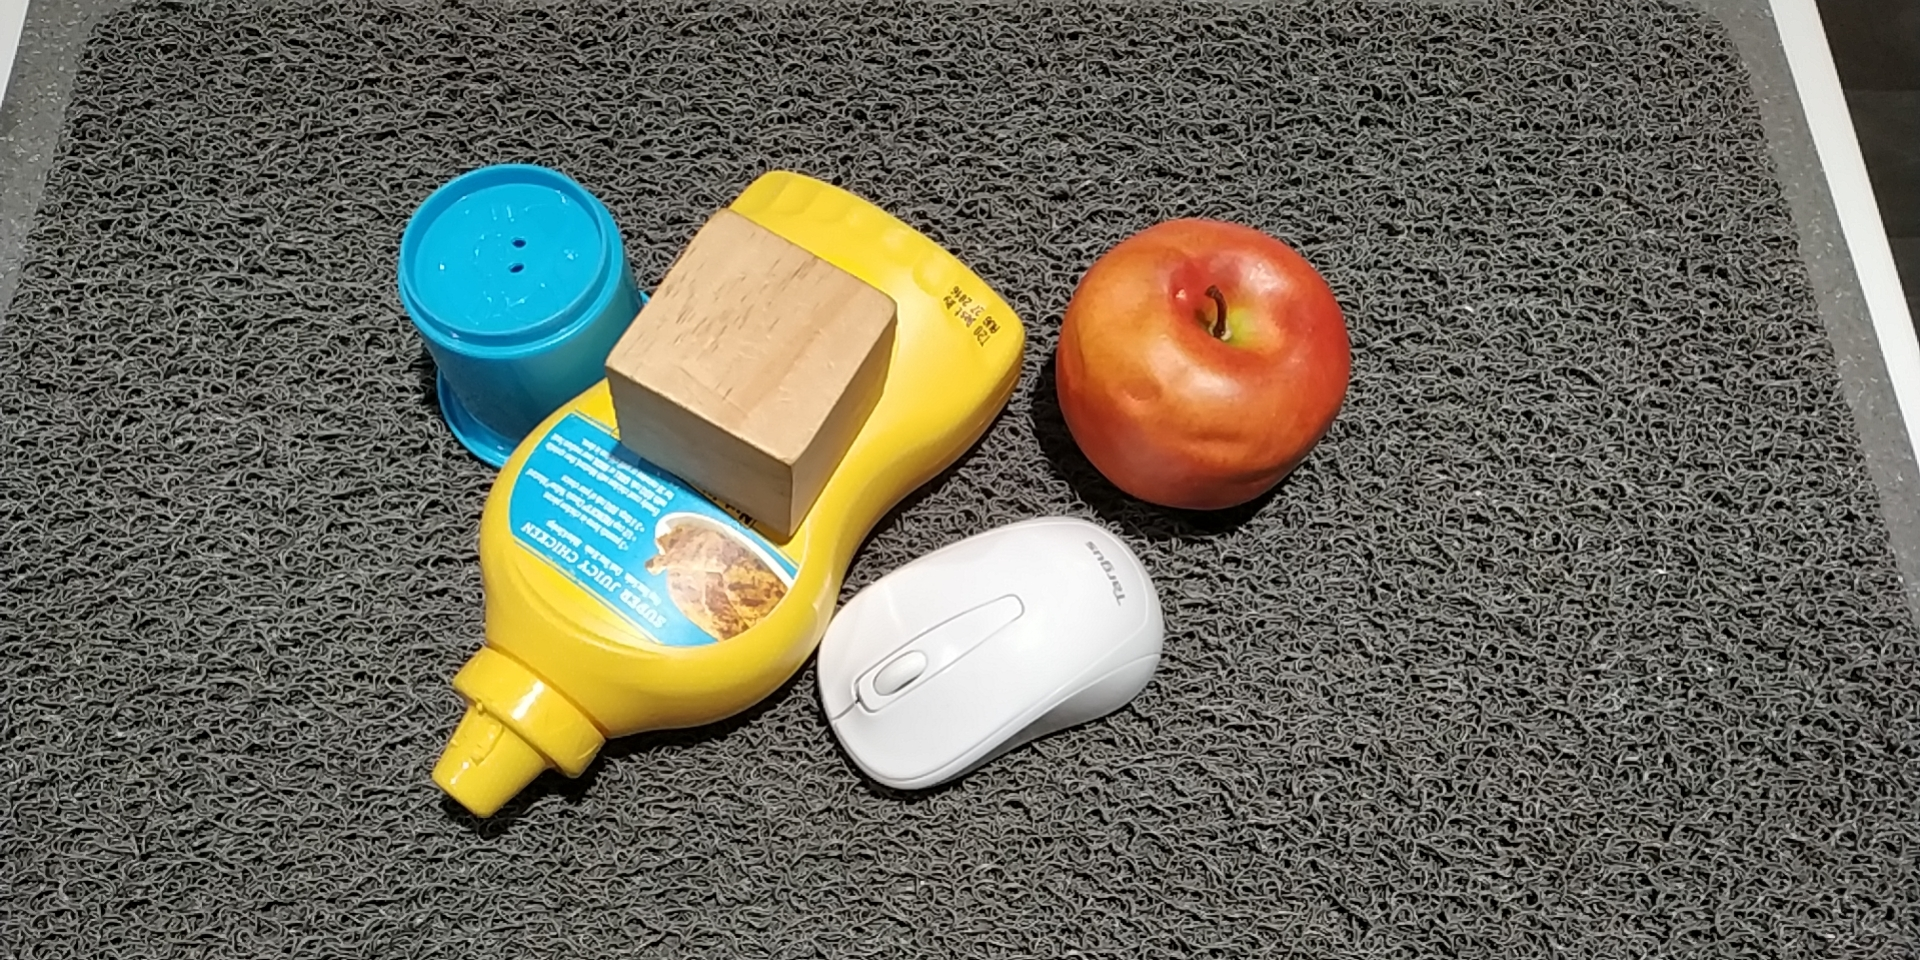apple: (1047, 213, 1347, 524)
bottle: (433, 160, 1030, 818)
box: (600, 214, 889, 538)
cup: (403, 164, 659, 475)
mouse: (813, 509, 1171, 793)
